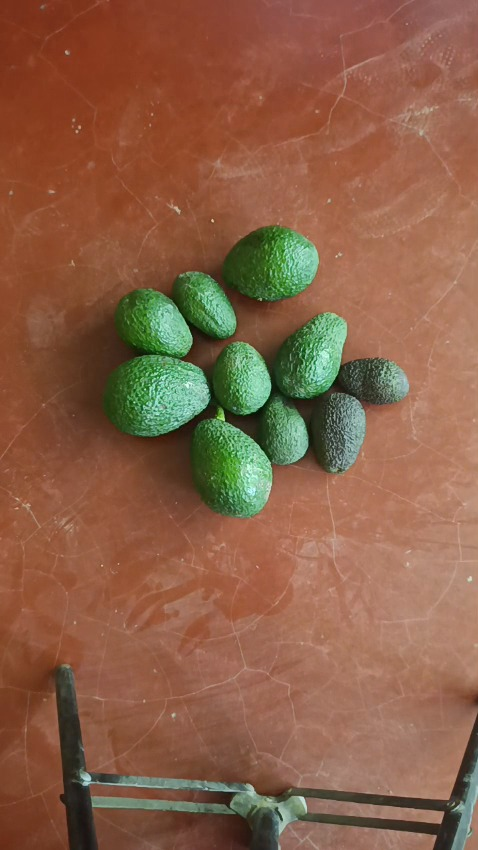Primera: (102, 355, 211, 436), (190, 409, 272, 515)
Segunda: (222, 225, 319, 302), (273, 313, 348, 400)
Tercera: (113, 287, 194, 358), (309, 391, 366, 473), (211, 341, 273, 416), (171, 270, 237, 340), (257, 391, 307, 465), (337, 357, 409, 405)
